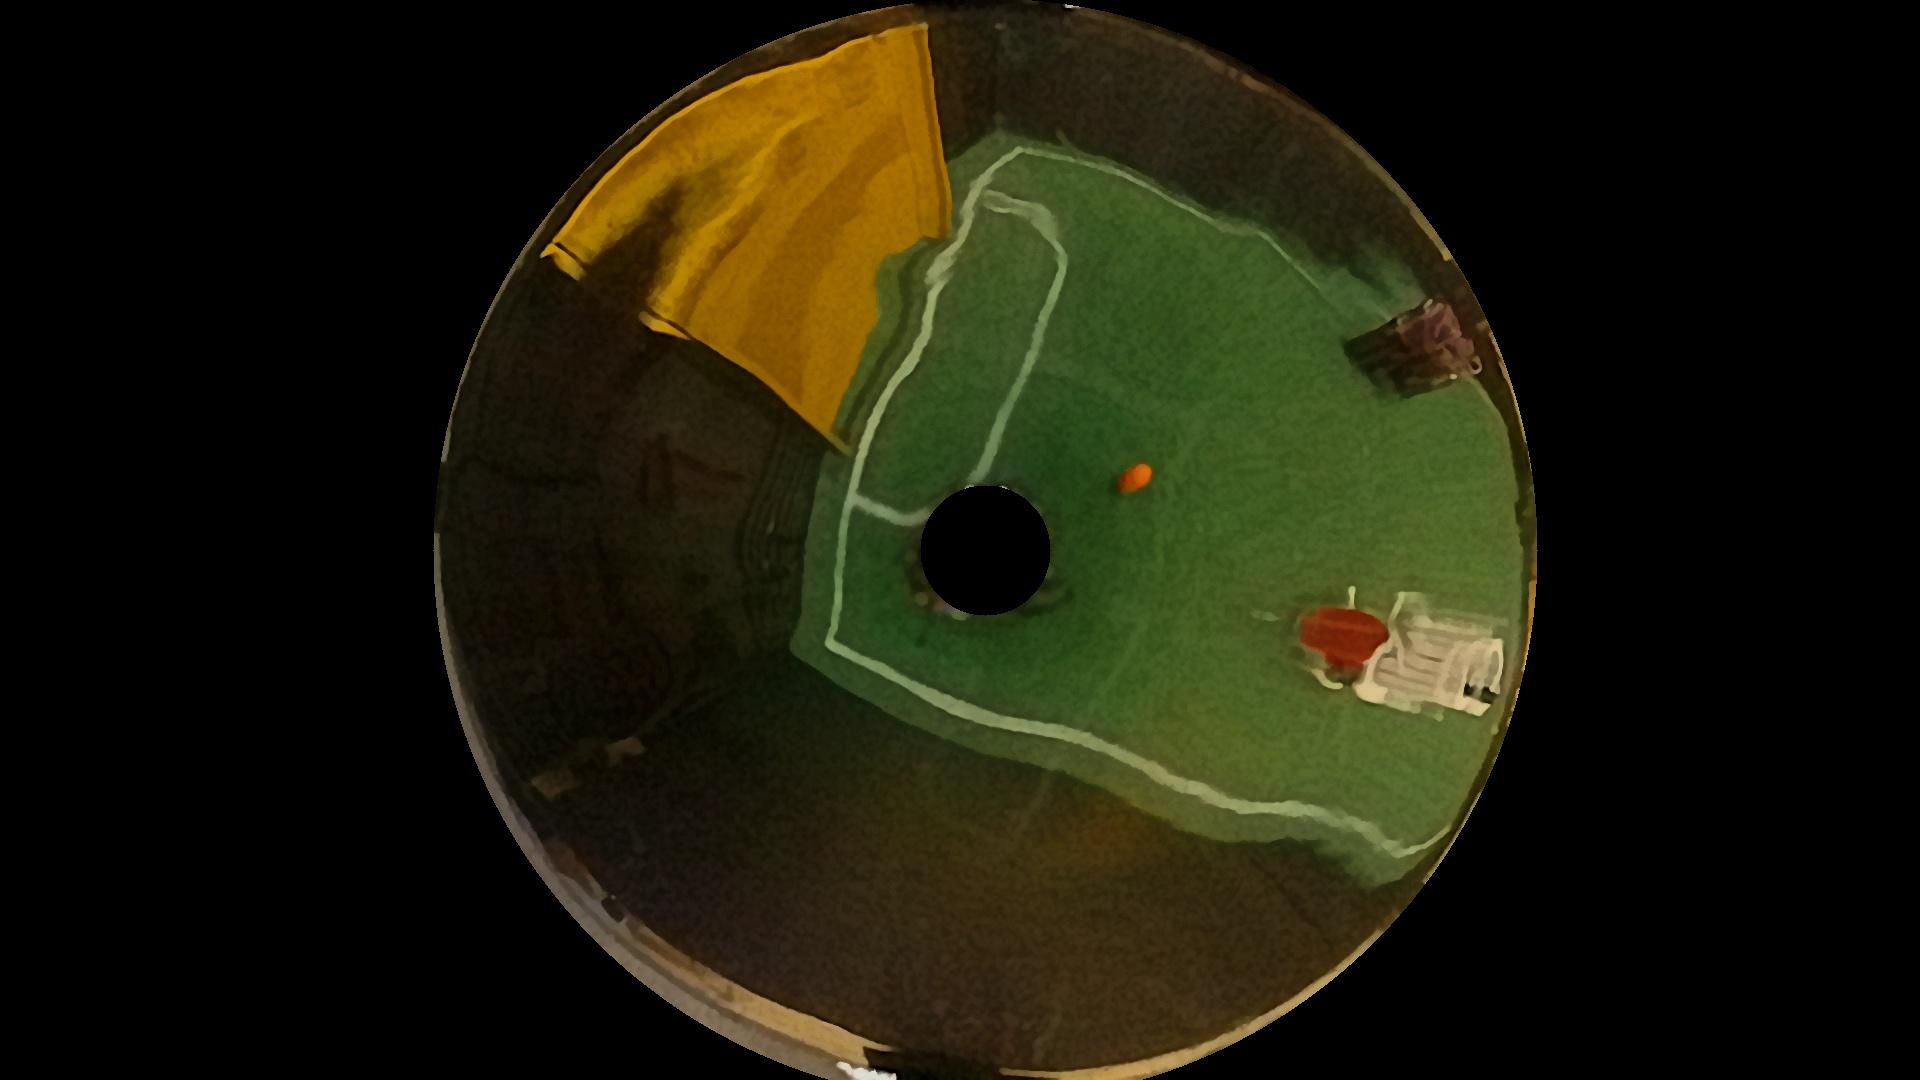ball: (1105, 447, 1164, 505)
robots: (1292, 567, 1528, 737), (1344, 276, 1510, 427)
yellow-goal: (549, 36, 998, 419)
